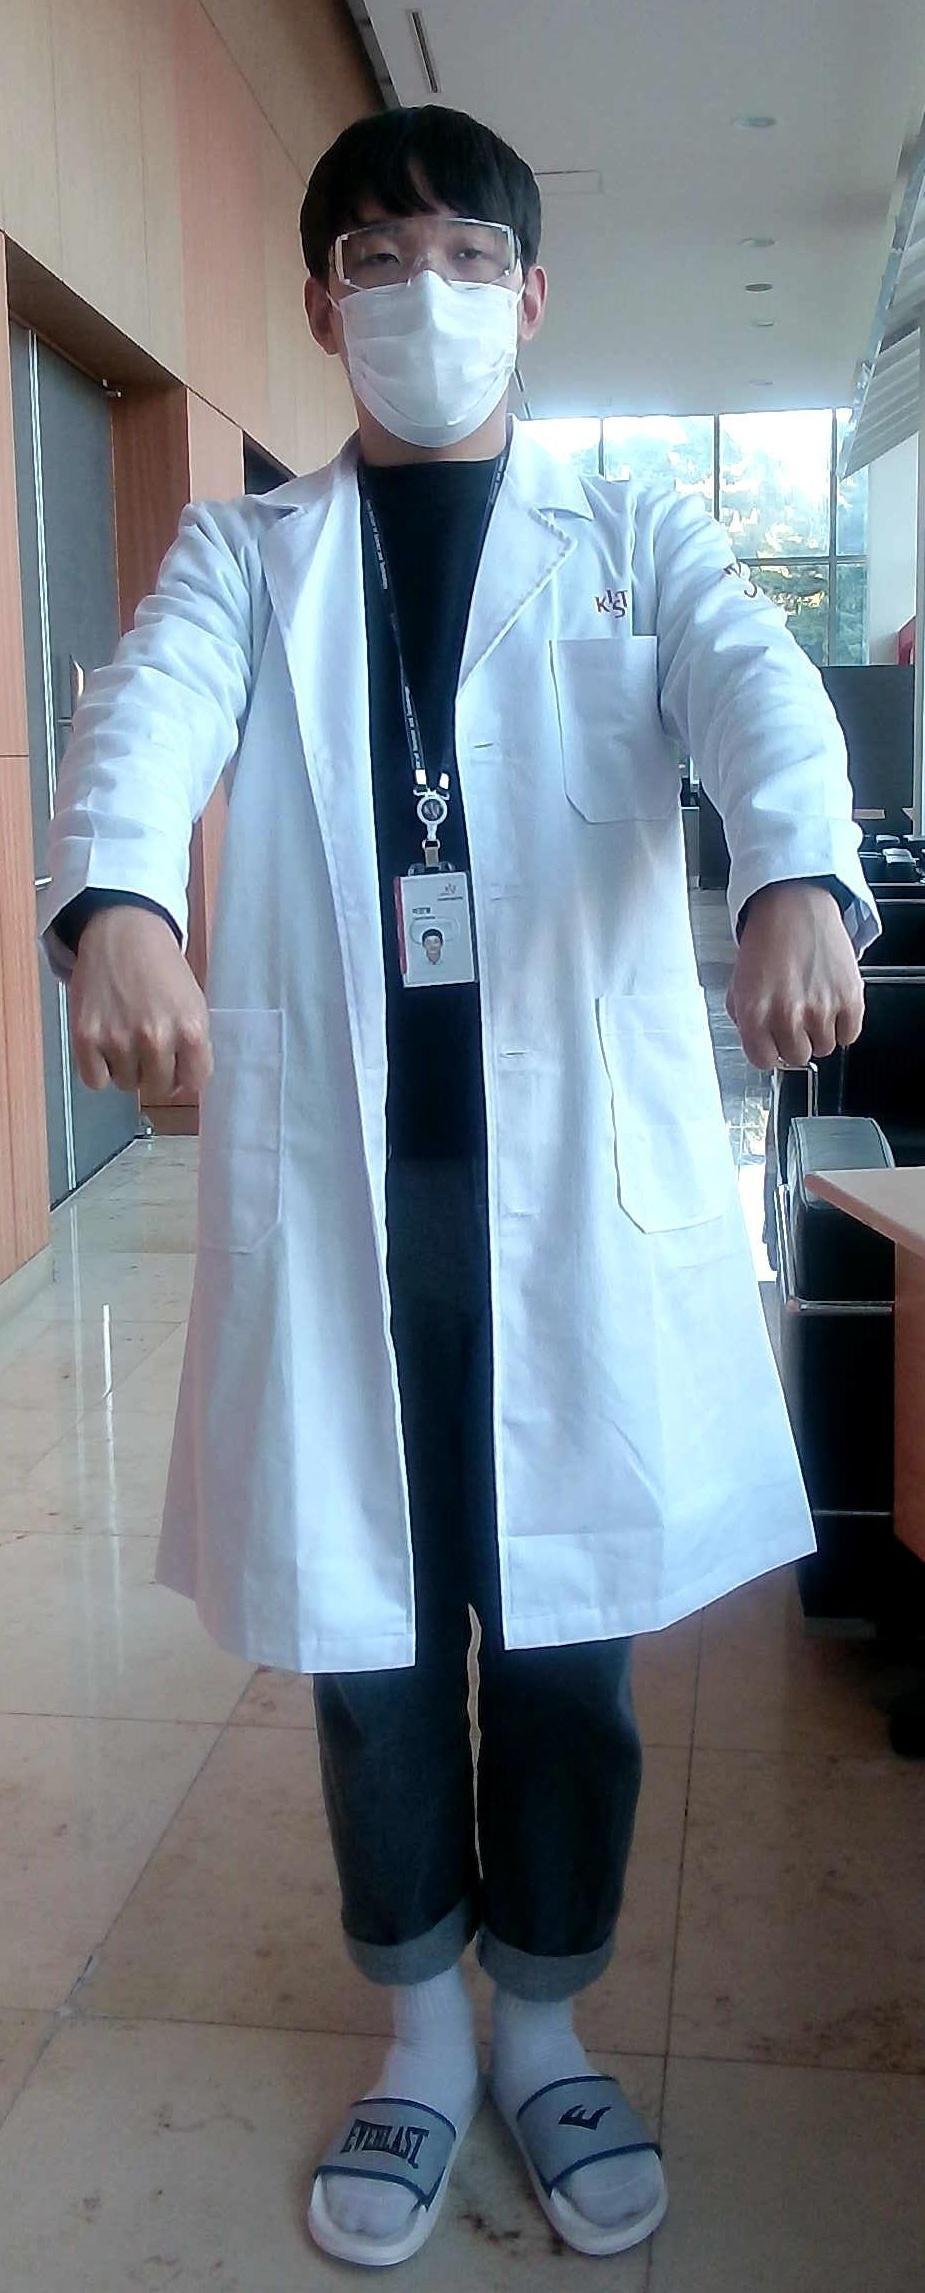lab_coat: (202, 466, 691, 1631)
